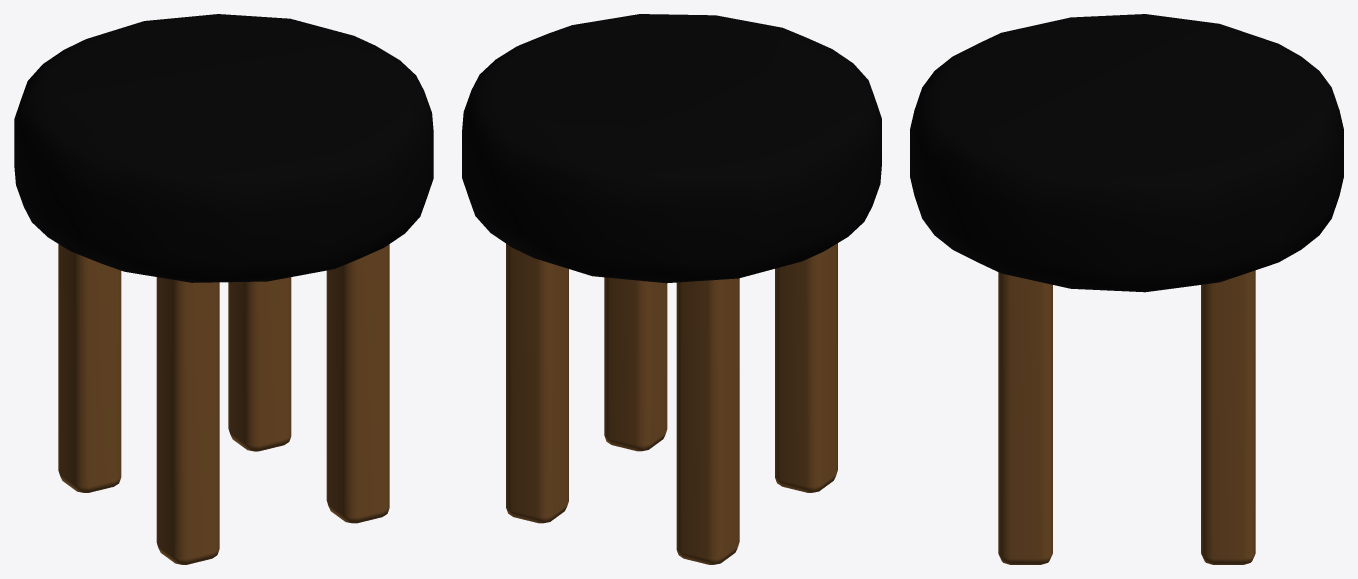
File: stool_07_black.fbx
The picture shows the model from 3 angles, left to right: view 1: azimuth 30°, elevation 25°; view 2: azimuth 150°, elevation 25°; view 3: azimuth 270°, elevation 25°; orthographic projection. The views are drawn at different scales.
Parts seen in each view (by area): view 1: stool_07_black; view 2: stool_07_black; view 3: stool_07_black.
Part boxes in pixels (x1,y1,x2,y2): stool_07_black: (14,14,433,564); stool_07_black: (462,14,881,564); stool_07_black: (910,14,1343,564).
Size of the model in its own units: 41.86 by 45 by 41.86.
Materials: 1 (1 with a texture image).
